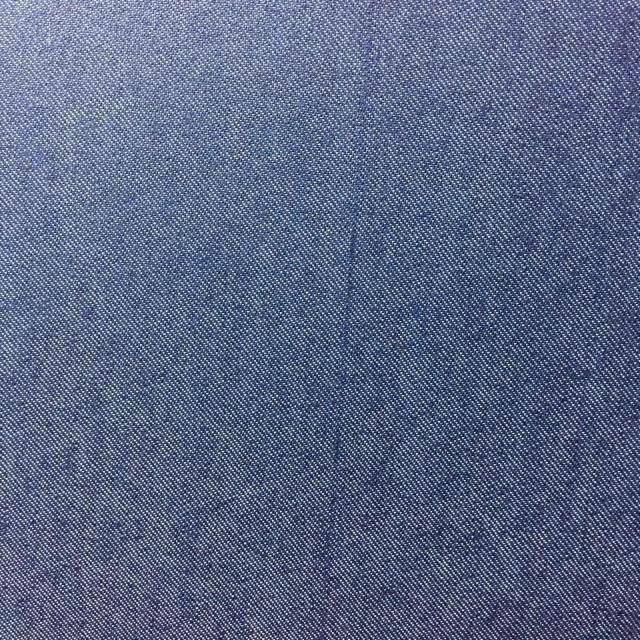Line: (315, 23, 375, 625)
